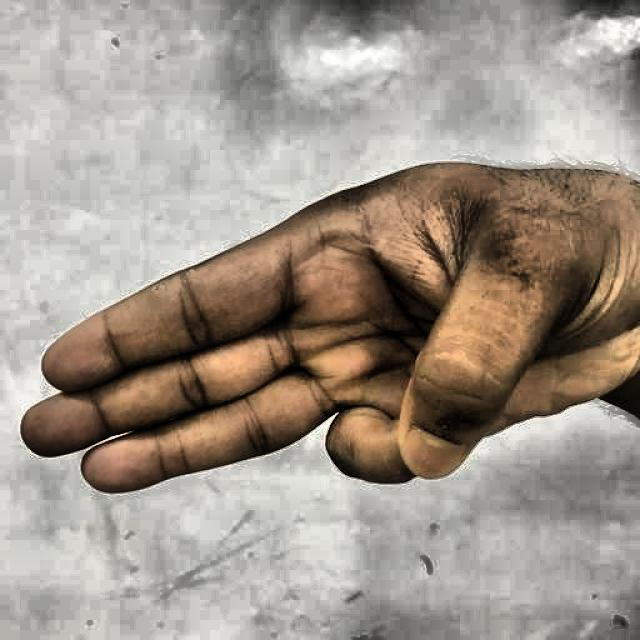Ma: (15, 135, 636, 525)
